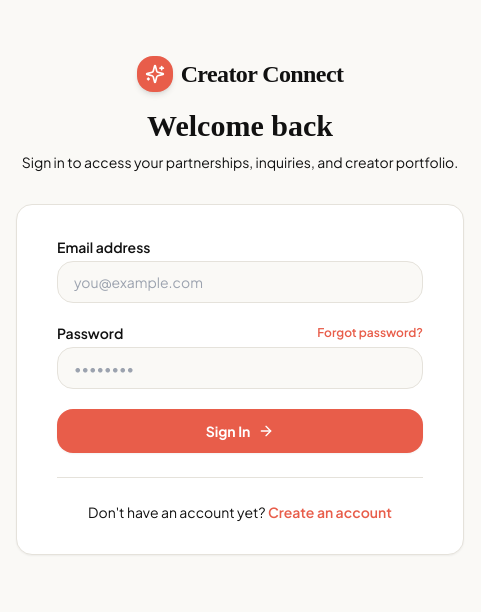
Phase 3B Comprehensive Frontend E2E & Flow Verification › 3. Login Flow Scenarios (Section 10) › displays user-safe error message when login fails due to invalid credentials
The width and height of the screenshot is (481, 612).
Type "wrong@example.com" into the field labelled "Email address" at (240,282), box top-left (57, 260), bottom-right (423, 302)
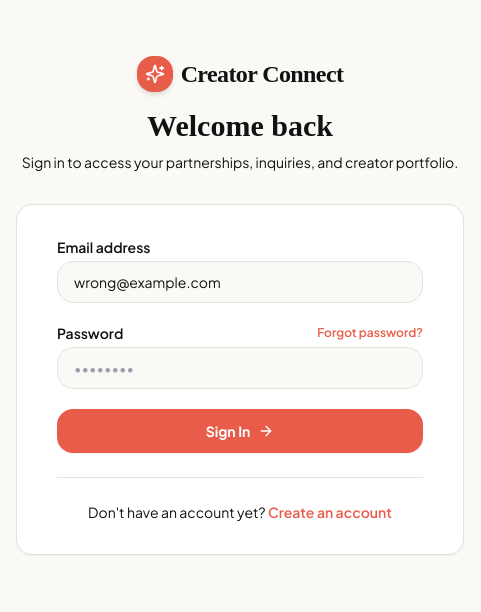
Type "WrongPass!" into the password field labelled "Password" at (240,368), box top-left (57, 346), bottom-right (423, 388)
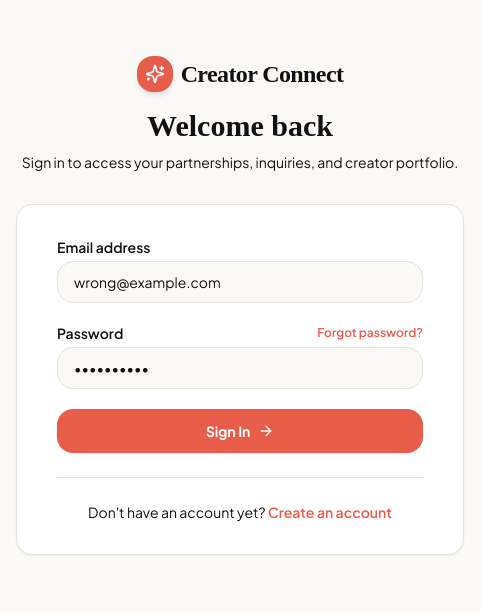
Click the button "Sign In" at (240,430), box top-left (57, 408), bottom-right (423, 452)
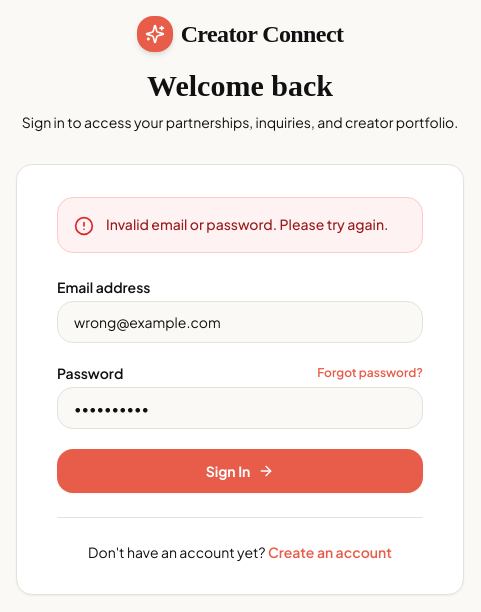
Result: the text "Invalid email or password. Please try again." is shown at top-left (106, 214), bottom-right (388, 234)
